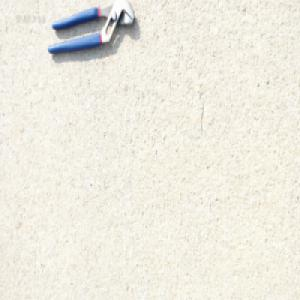Pliers: (46, 0, 135, 56)
